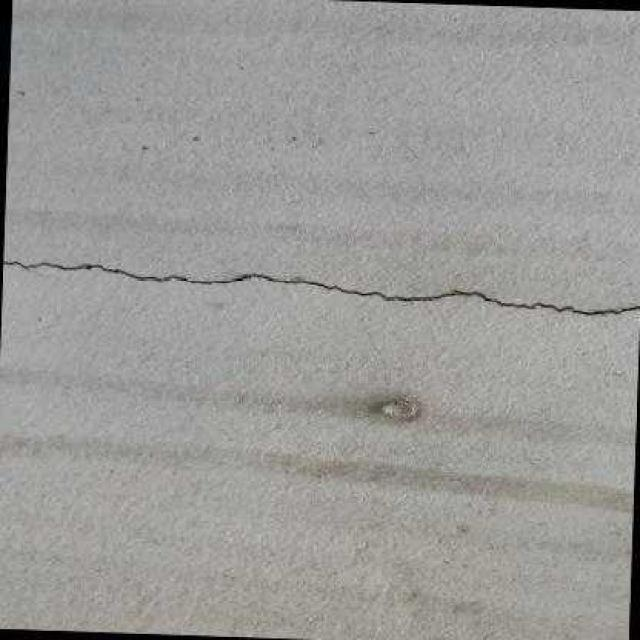D00: (2, 259, 640, 317)
